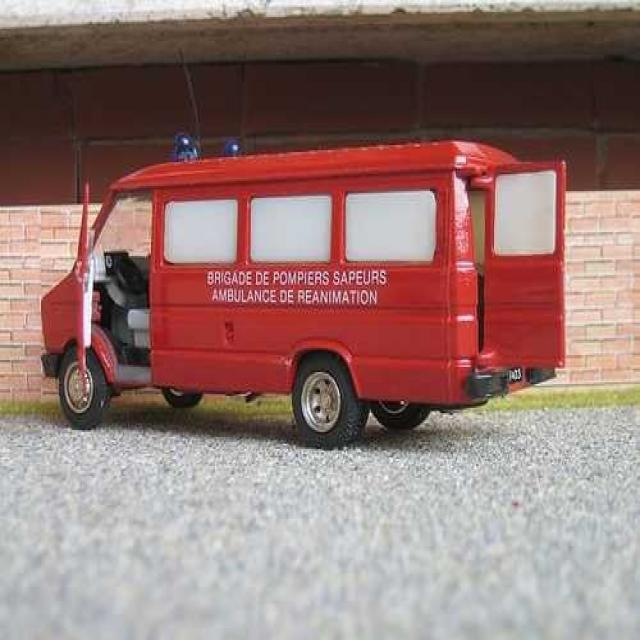emergency-vehicle: (42, 134, 568, 430)
